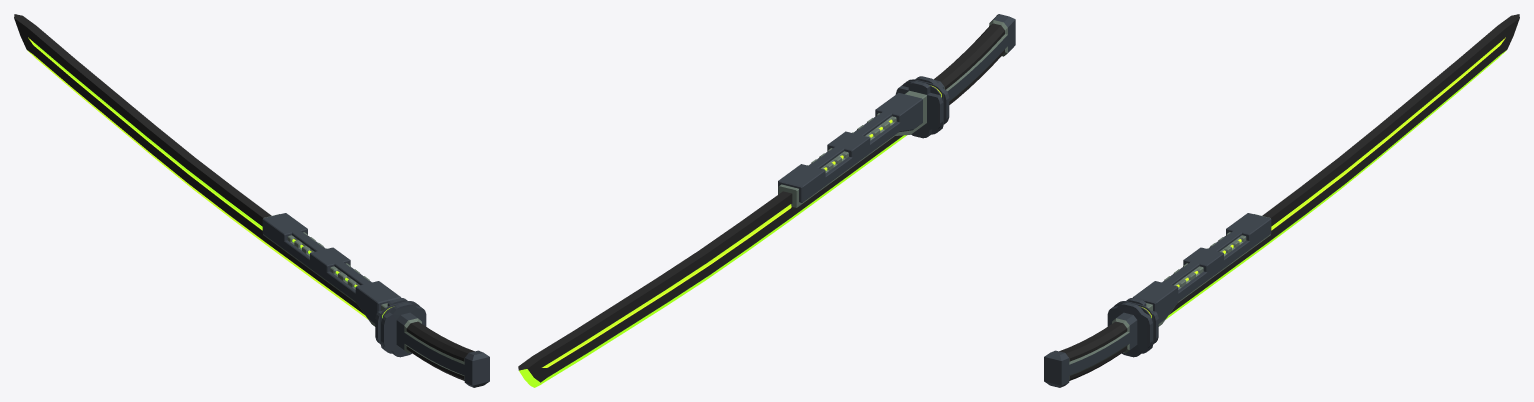
The model's file is katana.fbx.
3 renders of one model, left to right at view 1: azimuth 30°, elevation 25°; view 2: azimuth 150°, elevation 25°; view 3: azimuth 330°, elevation 25°, orthographic. The views are drawn at different scales.
Parts seen in each view (by area): view 1: Cube; view 2: Cube; view 3: Cube.
Part boxes in pixels (x1=…): Cube: x1=14, y1=14, x2=489, y2=387; Cube: x1=518, y1=14, x2=1015, y2=387; Cube: x1=1044, y1=14, x2=1519, y2=387.
Bounding box in the file's own units: 277 × 351 × 5283.
